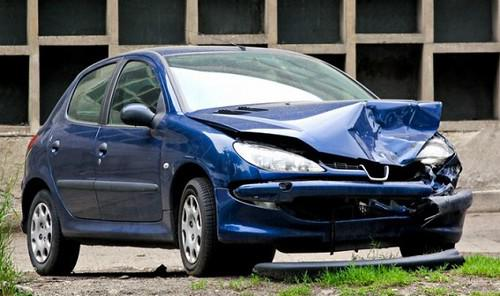bonnet-dent: (199, 95, 435, 161)
front-bumper-dent: (231, 149, 450, 248)
